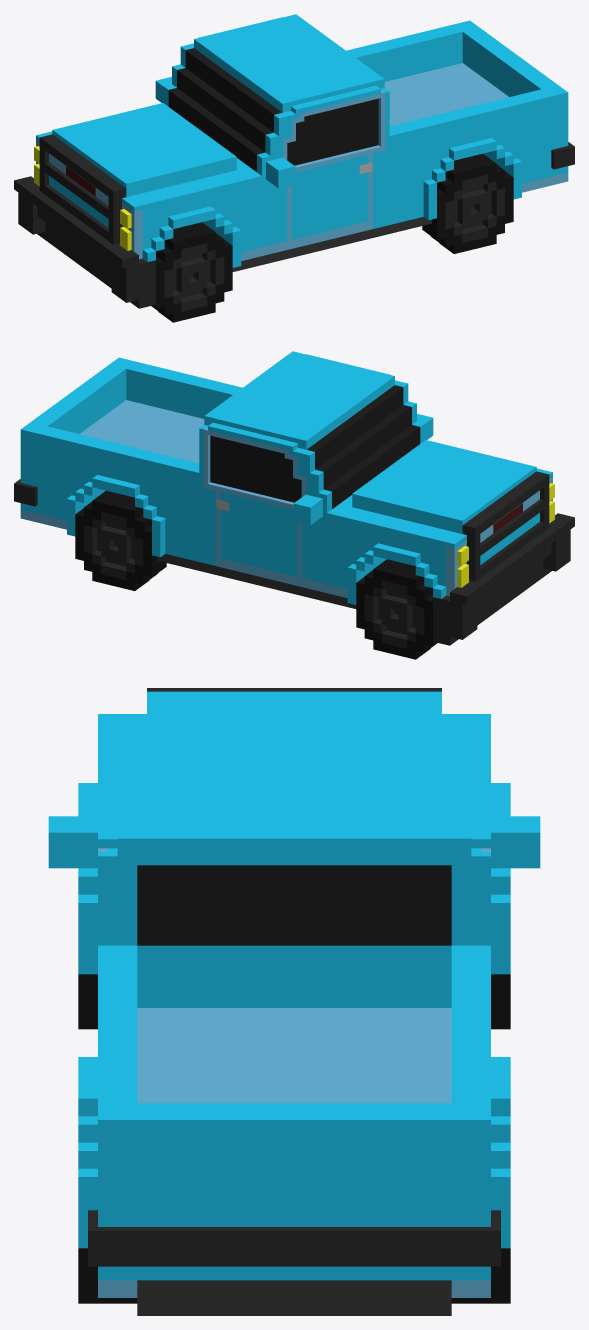
File: car_mili_len_3.glb
3 renders of one model, top to bottom at view 1: azimuth 30°, elevation 25°; view 2: azimuth 150°, elevation 25°; view 3: azimuth 270°, elevation 25°, orthographic. The views are drawn at different scales.
Visible parts, largest first — view 1: _0; view 2: _0; view 3: _0.
Boxes of the visible parts, x1,y1,x2,y2 form: _0: [14, 14, 574, 322]; _0: [14, 351, 574, 659]; _0: [48, 688, 540, 1315].
Size of the model in its own units: 0.1605 by 0.0615 by 0.075.
